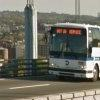buses: (43, 21, 100, 83)
